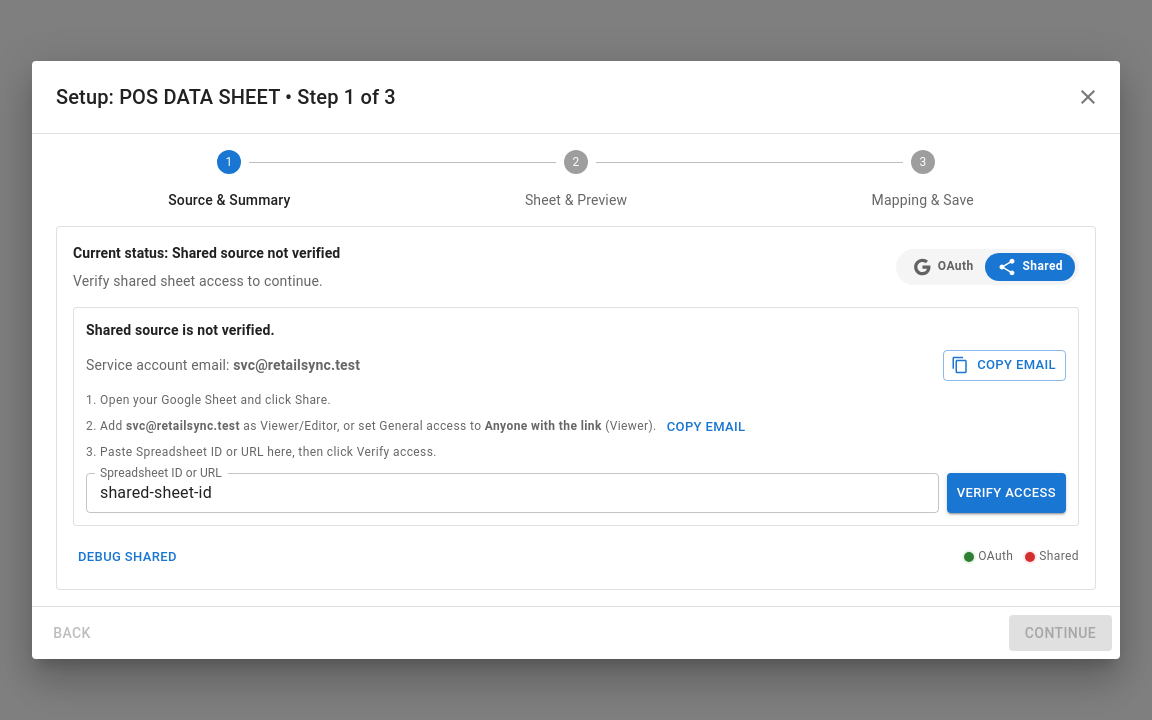
Test case: GoogleSheetsSetupInline › moves directly to step 2 after successful shared verify
This screenshot has width=1152, height=720.
Type "1pIY9TZVmfg__BxYqsEMZn71jj1N23enWl4uFLUTplFM" into the field labelled "Spreadsheet ID or URL".
click(512, 493); type("1pIY9TZVmfg__BxYqsEMZn71jj1N23enWl4uFLUTplFM")  # box [86,473,939,513]
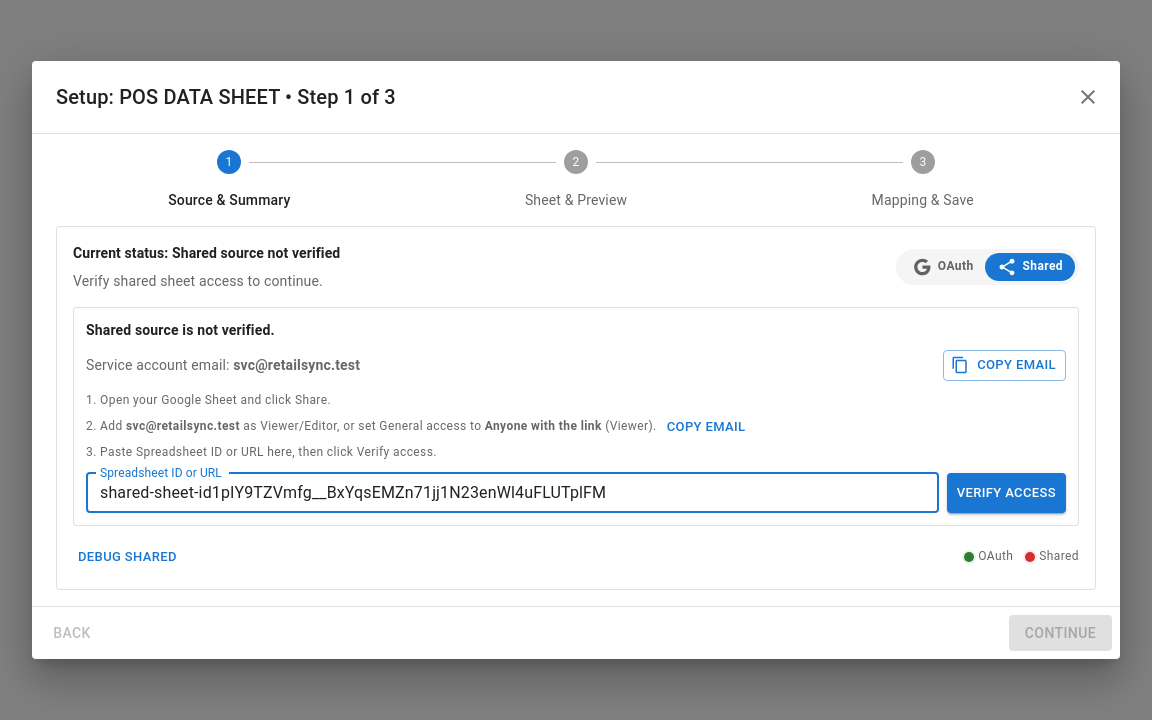
Click the button "Verify access".
click(1006, 493)  # box [947,473,1066,513]
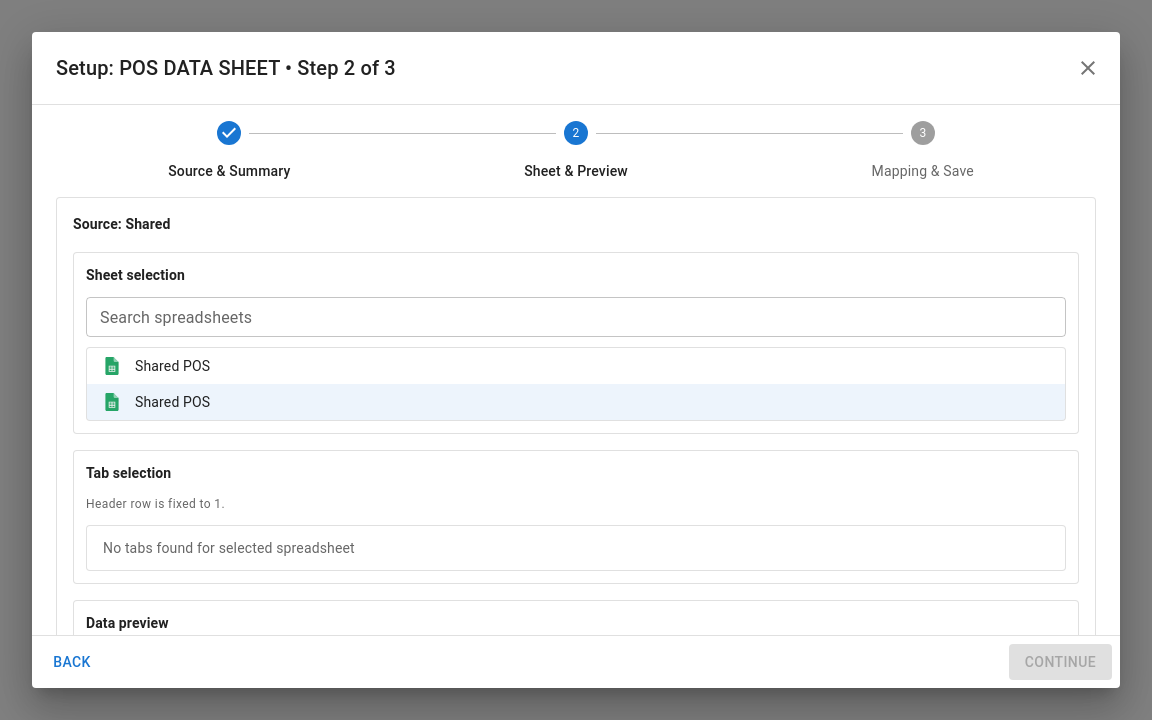
Check: the heading "Source: Shared" is shown, box [73,216,170,232]
